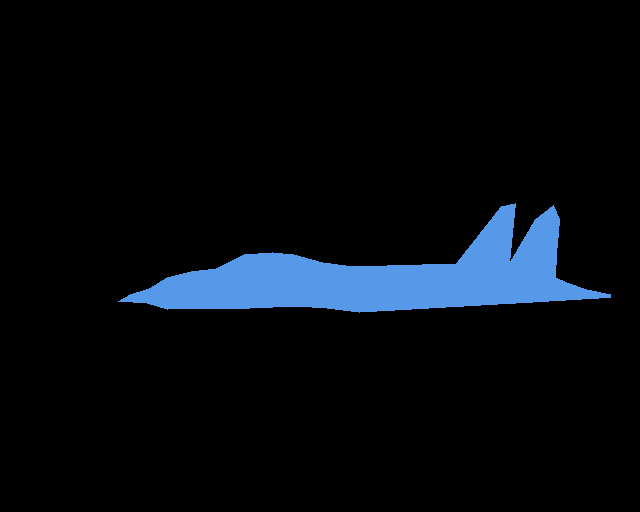Airplane: (118, 203, 610, 312)
